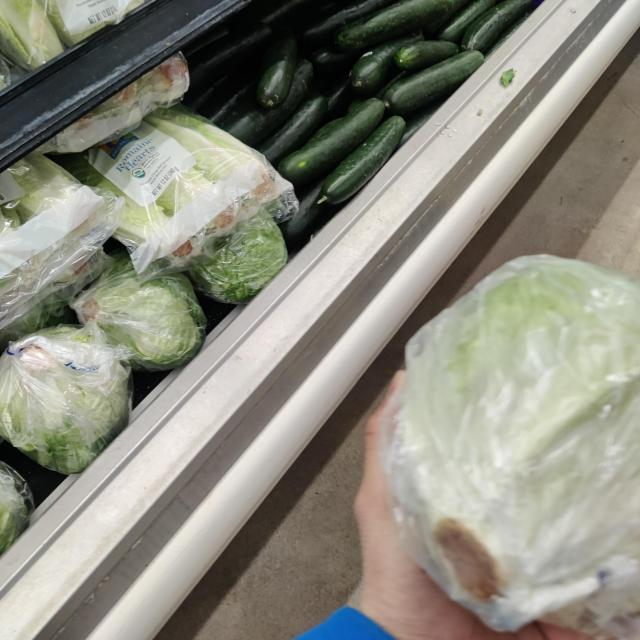Cucumber: (318, 116, 404, 211), (324, 0, 454, 52), (385, 48, 486, 111), (252, 94, 336, 166)
Lettuce: (398, 252, 640, 634), (60, 99, 298, 269), (0, 327, 133, 473), (76, 253, 208, 372)
